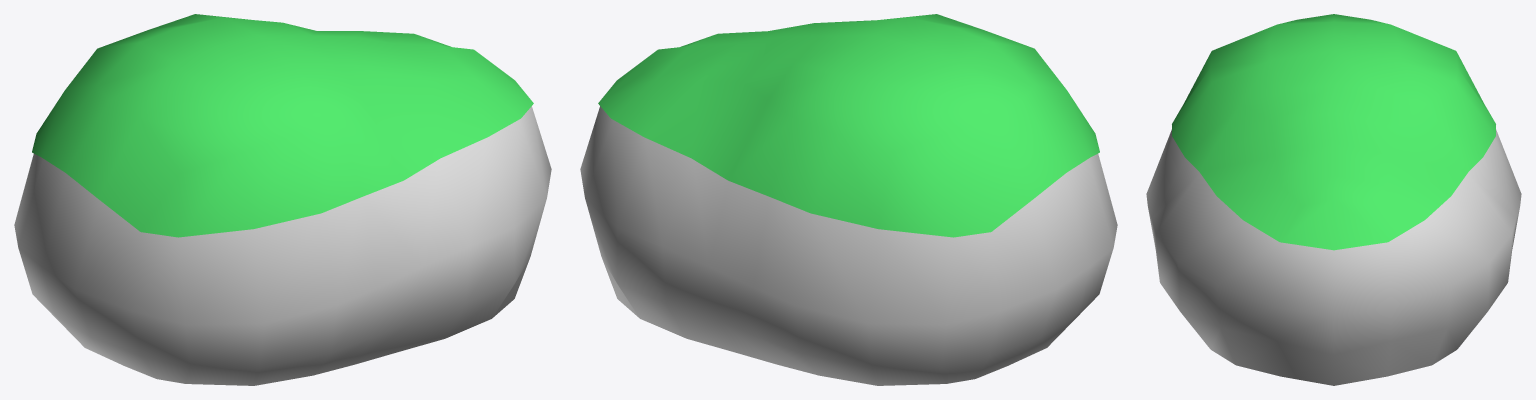
File: RockBig_A_Moss.fbx
The picture shows the model from 3 angles, left to right: view 1: azimuth 30°, elevation 25°; view 2: azimuth 150°, elevation 25°; view 3: azimuth 270°, elevation 25°; orthographic projection. The views are drawn at different scales.
Visible parts, largest first — view 1: RockBig_A_Moss_LOD0; view 2: RockBig_A_Moss_LOD0; view 3: RockBig_A_Moss_LOD0.
Boxes of the visible parts, x1=… form: RockBig_A_Moss_LOD0: x1=14, y1=14, x2=551, y2=385; RockBig_A_Moss_LOD0: x1=580, y1=14, x2=1117, y2=385; RockBig_A_Moss_LOD0: x1=1146, y1=14, x2=1521, y2=385.
Size of what is drawn, in the model's own units: 6.7 by 3.54 by 5.21.
